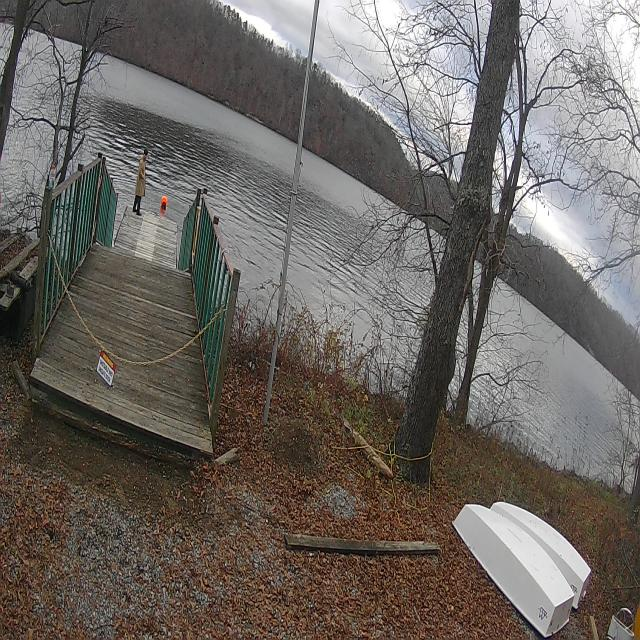Buoy: (155, 185, 174, 221)
